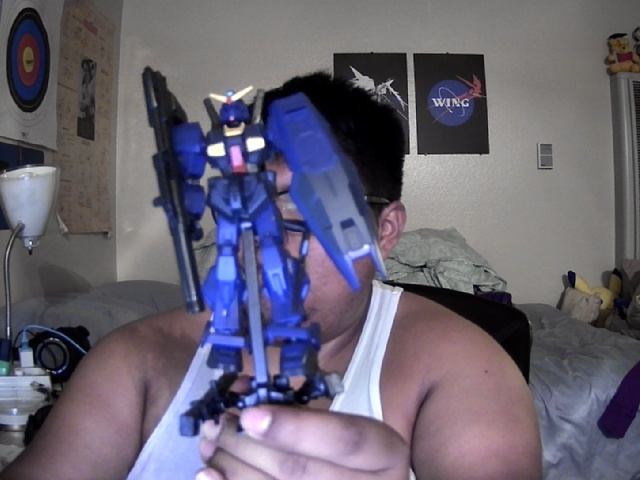Mk-11-Titans: (141, 65, 388, 375)
